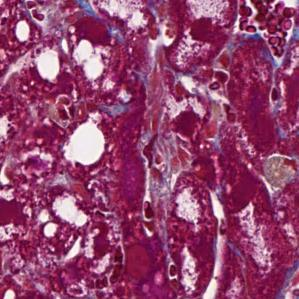steatosis: (65, 118, 107, 170), (72, 33, 109, 81), (32, 44, 62, 82), (15, 17, 33, 44)
